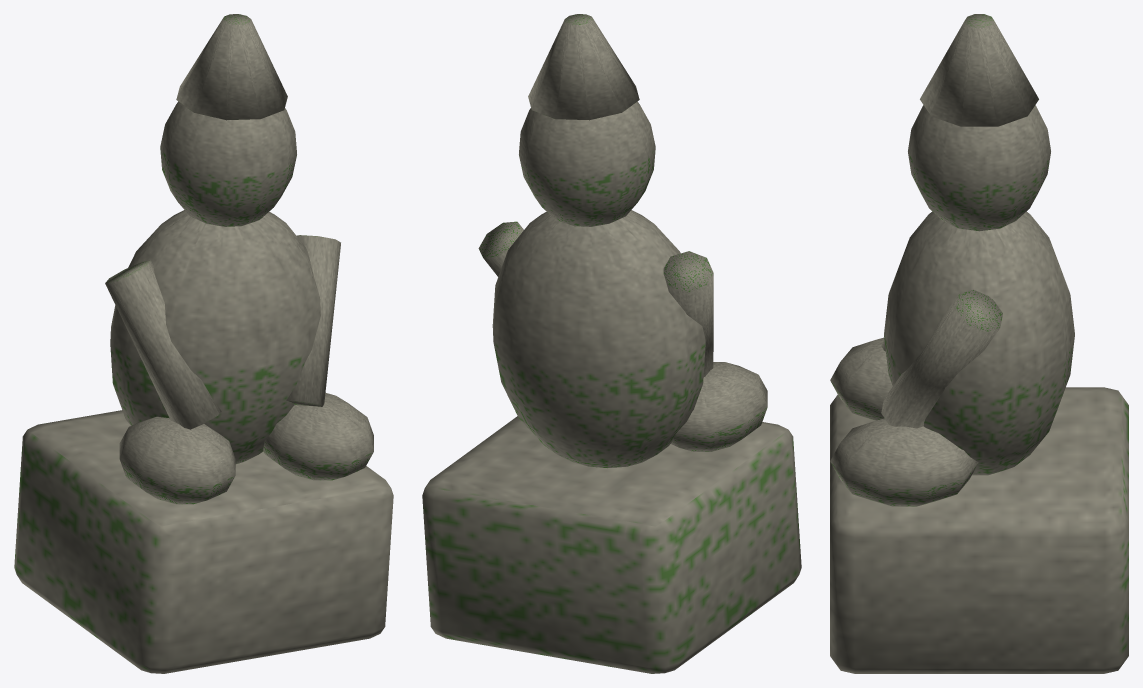
Rendered from prop_arca.glb.
3 renders of one model, left to right at view 1: azimuth 30°, elevation 25°; view 2: azimuth 150°, elevation 25°; view 3: azimuth 270°, elevation 25°, orthographic. The views are drawn at different scales.
Parts seen in each view (by area): view 1: arca; view 2: arca; view 3: arca.
Part boxes in pixels (box(x1,y1,x2,y2)): arca: box(14, 14, 393, 673); arca: box(422, 14, 801, 673); arca: box(830, 14, 1128, 673).
Bounding box in the file's own units: 1.05 × 2.28 × 1.
1 material, 1 textured.
